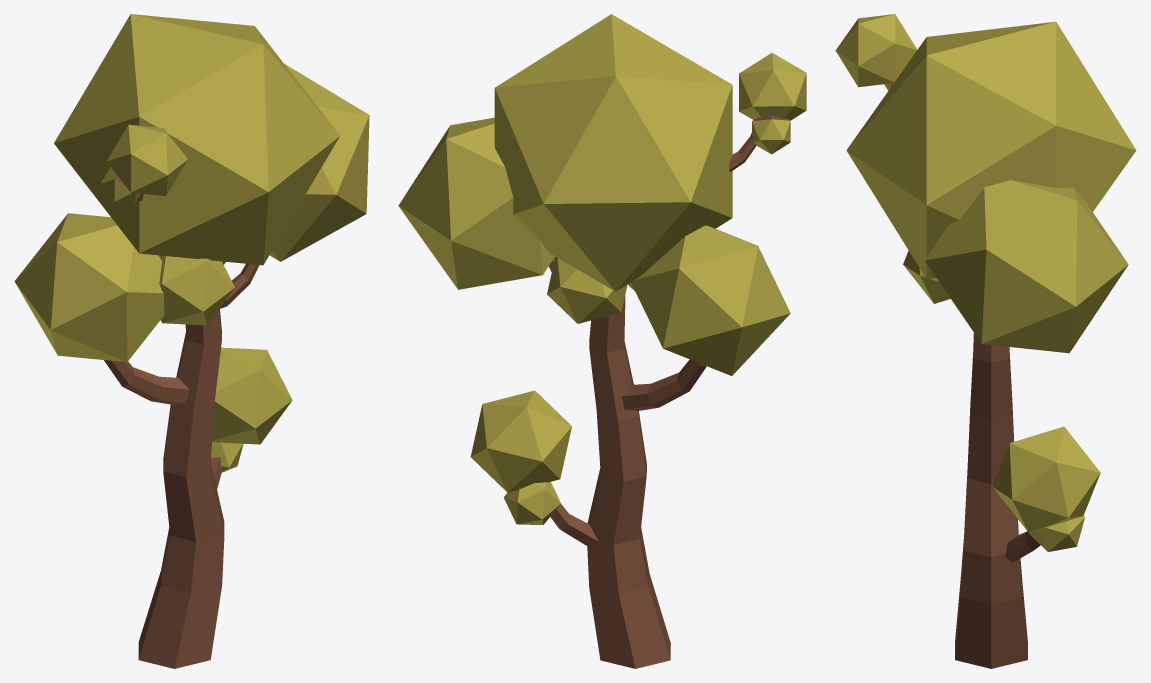
The model's file is Tree_Yellow.fbx.
3 views of the same model, side by side, from view 1: azimuth 30°, elevation 25°; view 2: azimuth 150°, elevation 25°; view 3: azimuth 270°, elevation 25° (orthographic). The views are drawn at different scales.
Parts seen in each view (by area): view 1: Tree_Yellow_Geo; view 2: Tree_Yellow_Geo; view 3: Tree_Yellow_Geo.
Boxes of the visible parts, bbox=[...] form: Tree_Yellow_Geo: bbox=[14, 14, 369, 668]; Tree_Yellow_Geo: bbox=[398, 14, 806, 668]; Tree_Yellow_Geo: bbox=[835, 14, 1136, 668].
Size of the model in its own units: 189 by 326 by 142.
